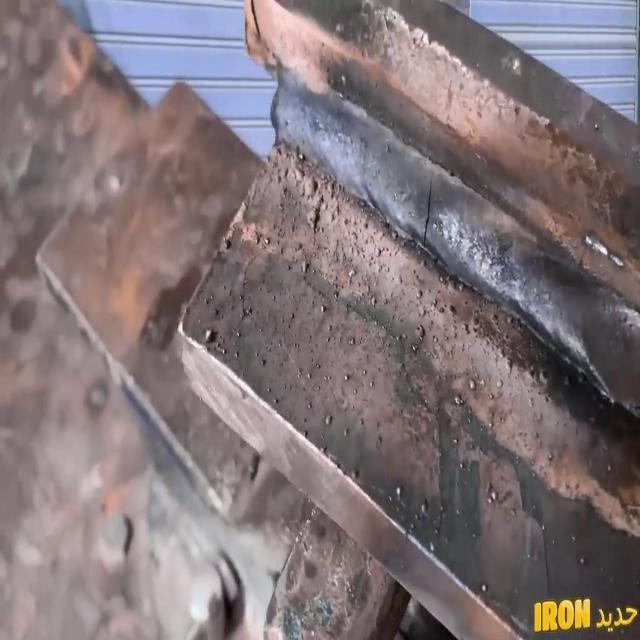Bad Welding: (276, 80, 640, 414)
